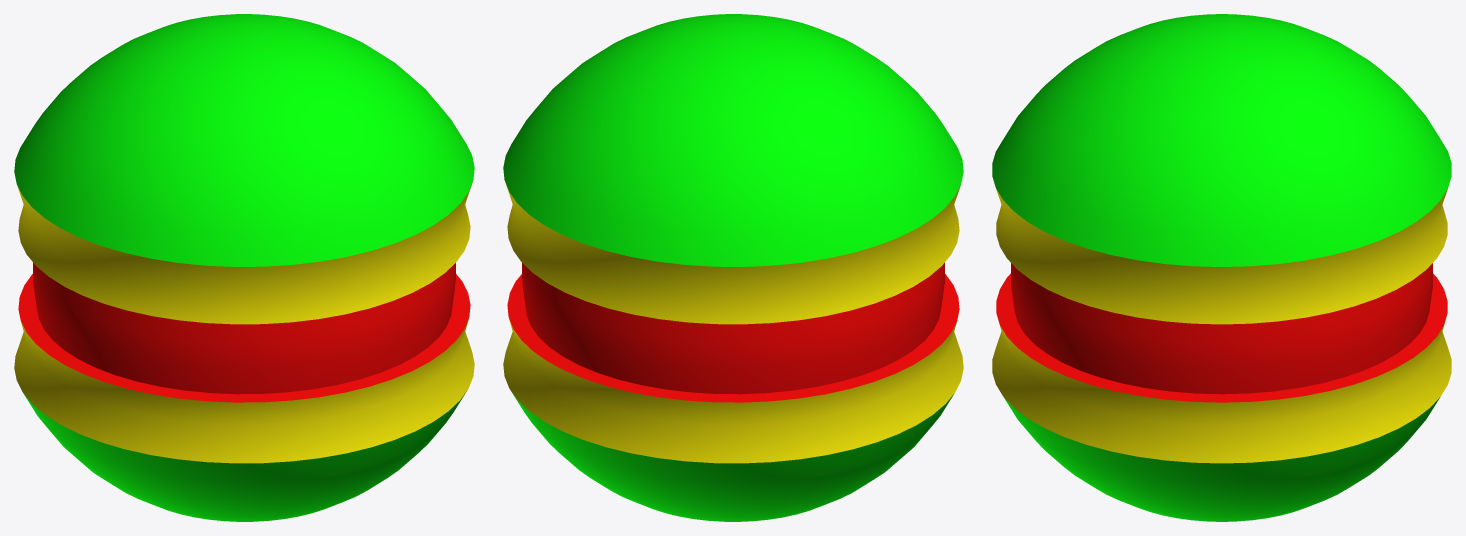
The picture shows the model from 3 angles, left to right: view 1: azimuth 30°, elevation 25°; view 2: azimuth 150°, elevation 25°; view 3: azimuth 270°, elevation 25°; orthographic projection.
Parts seen in each view (by area): view 1: Объект_Сфера; view 2: Объект_Сфера; view 3: Объект_Сфера.
Boxes of the visible parts, x1,y1,x2,y2 form: Объект_Сфера: [14, 14, 474, 521]; Объект_Сфера: [503, 14, 963, 521]; Объект_Сфера: [992, 14, 1451, 521].
Size of the model in its own units: 90.48 by 100 by 90.3.
